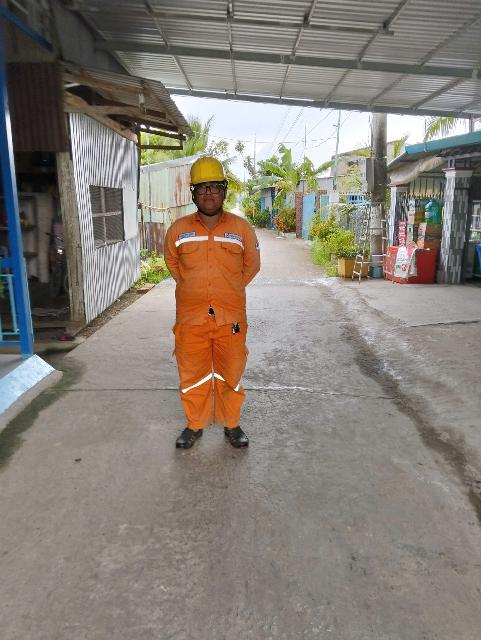helmet: (171, 148, 237, 191)
shoes: (159, 423, 212, 455), (223, 416, 256, 460)
